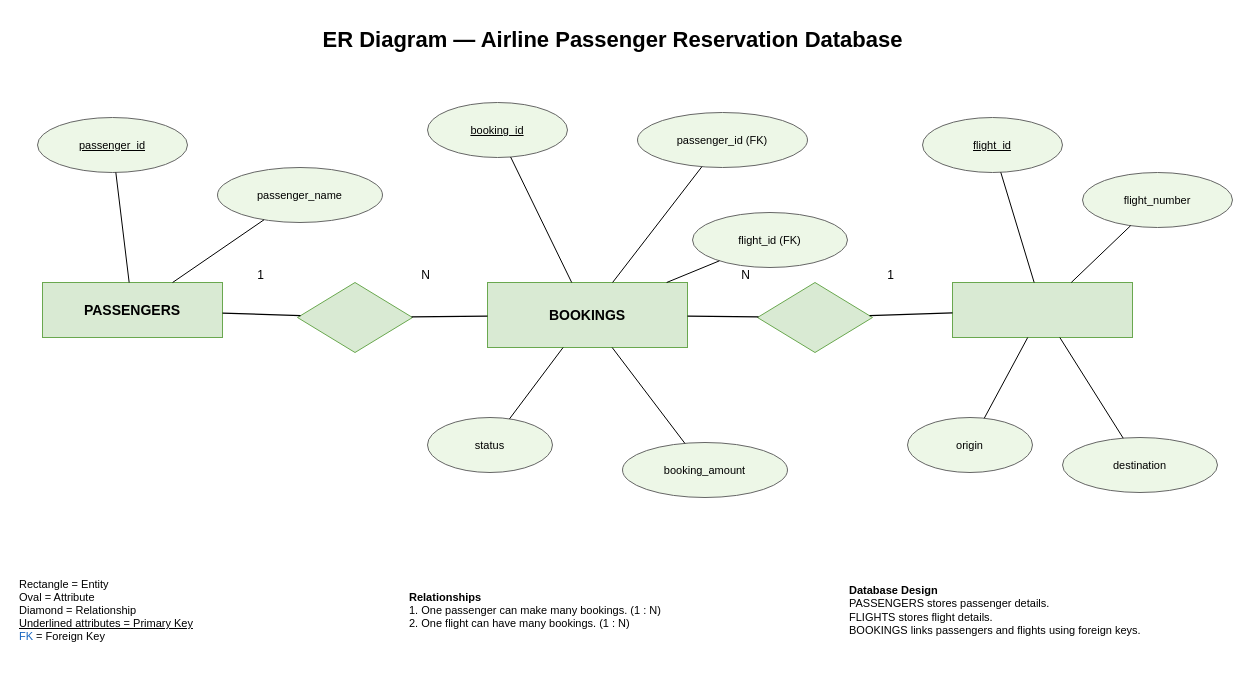
The diagram is 1250 pixels wide and 679 high, and some of its shapes have lost their labels. The shapes that lost their labels are listed below. From the top down, each one's box as (x1, y1, x2, y2) in pixels, then its label:
(296, 282, 412, 352): MAKES
(756, 282, 872, 352): IS FOR
(952, 282, 1132, 338): FLIGHTS
